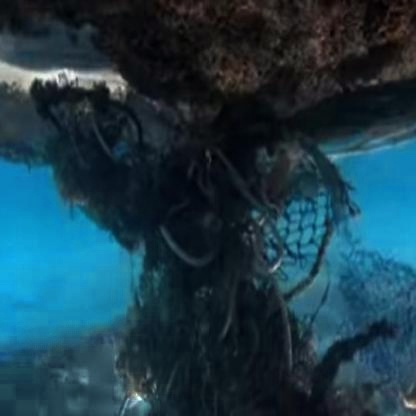net: (95, 46, 292, 414)
